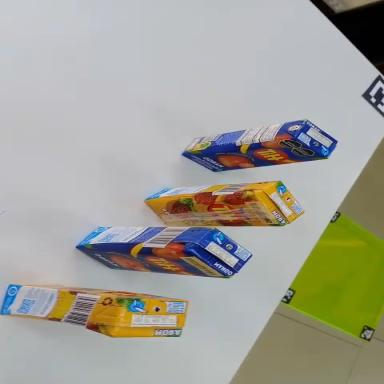HIT-MANGO: (181, 116, 339, 176), (78, 228, 252, 278)
HIT-MORA: (0, 283, 189, 342), (146, 181, 304, 226)
cara_F: (75, 246, 230, 278), (143, 193, 282, 227), (14, 280, 186, 306)
